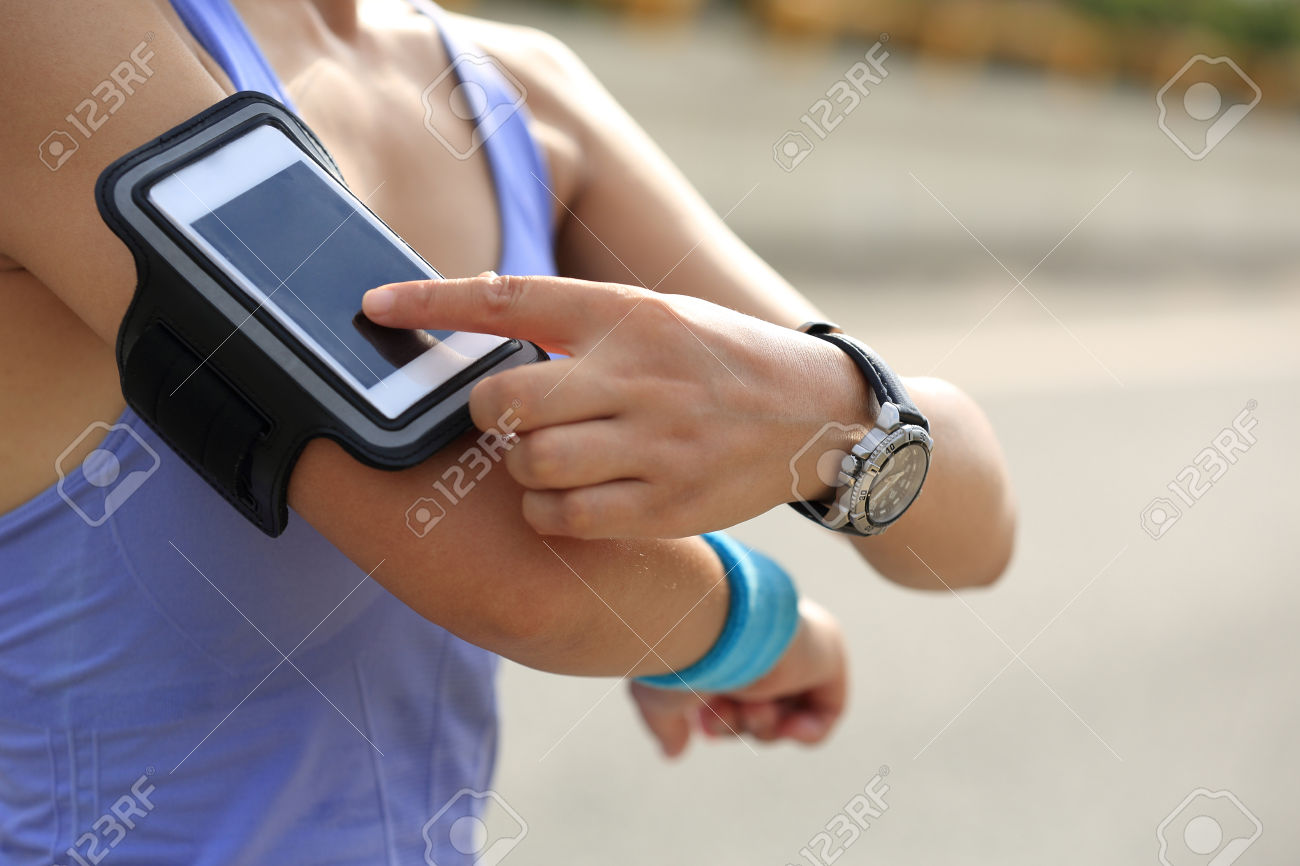smartphone: (145, 123, 511, 422)
